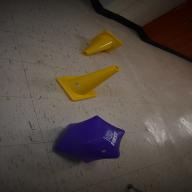cone: (55, 64, 121, 102), (82, 29, 125, 56)
cube: (54, 115, 125, 163)
